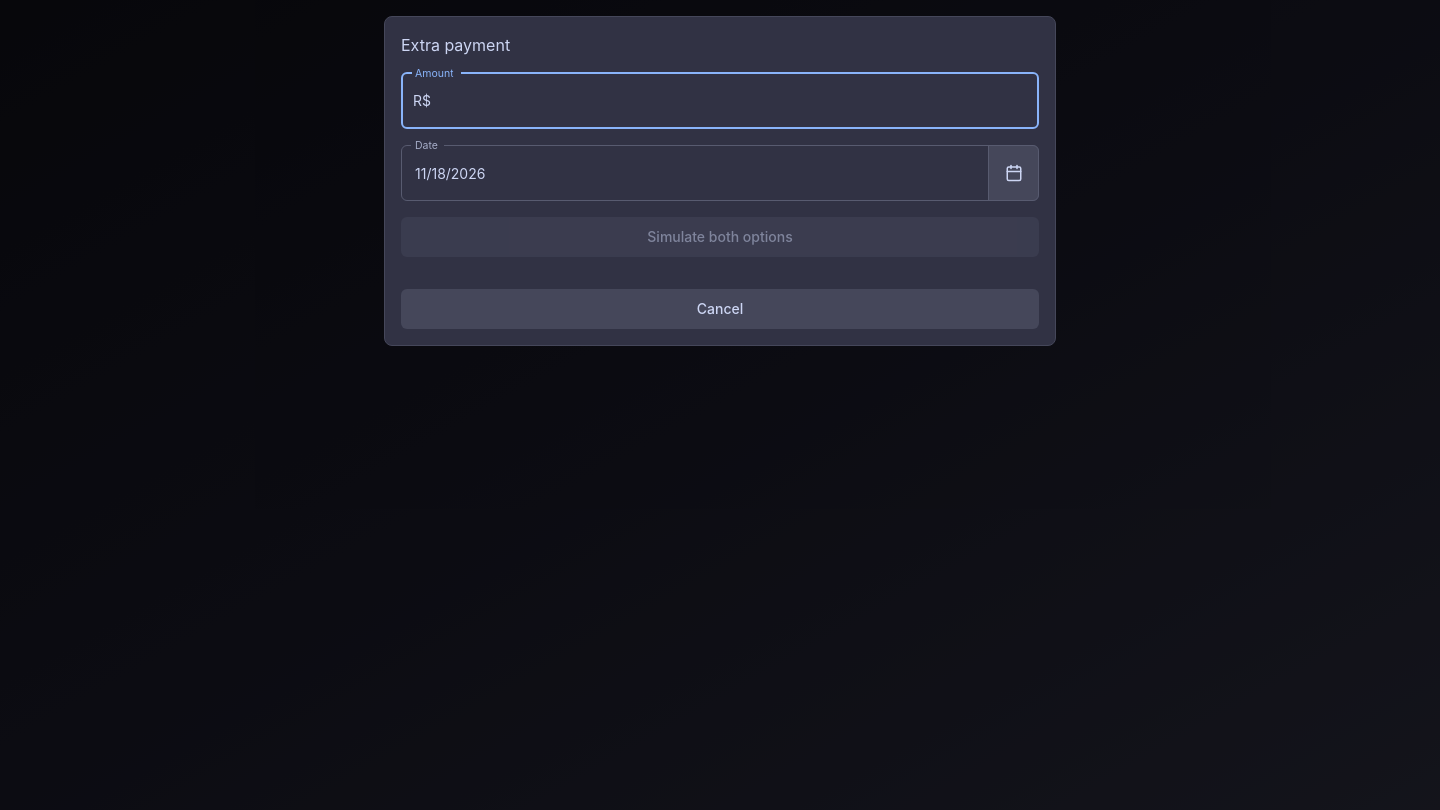
Scenario: clears stale simulations after the amount changes
In the field labelled "Amount": (742, 101) [445,73,1039,129], type "10"
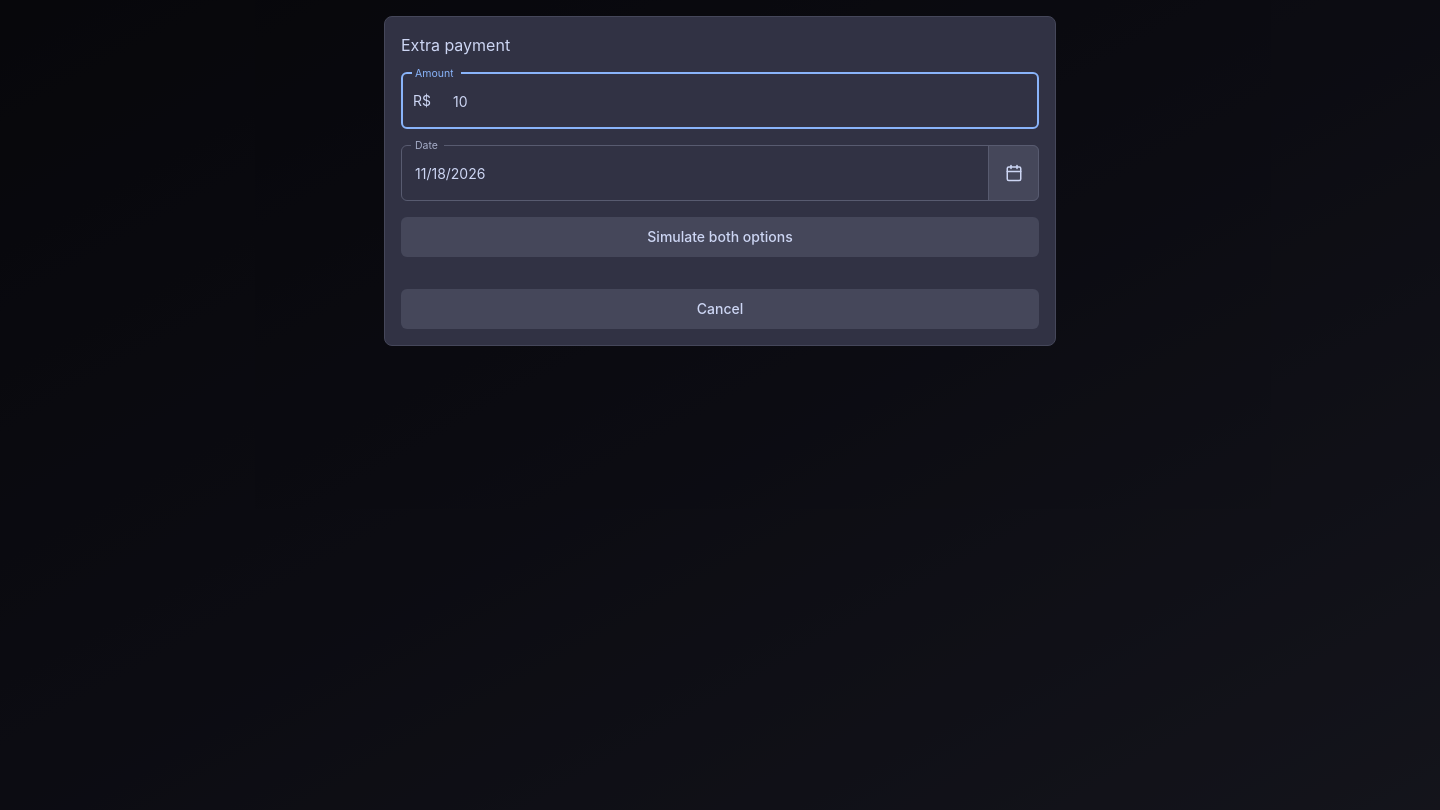
Click the button "Simulate both options": (720, 237) [401,217,1039,257]
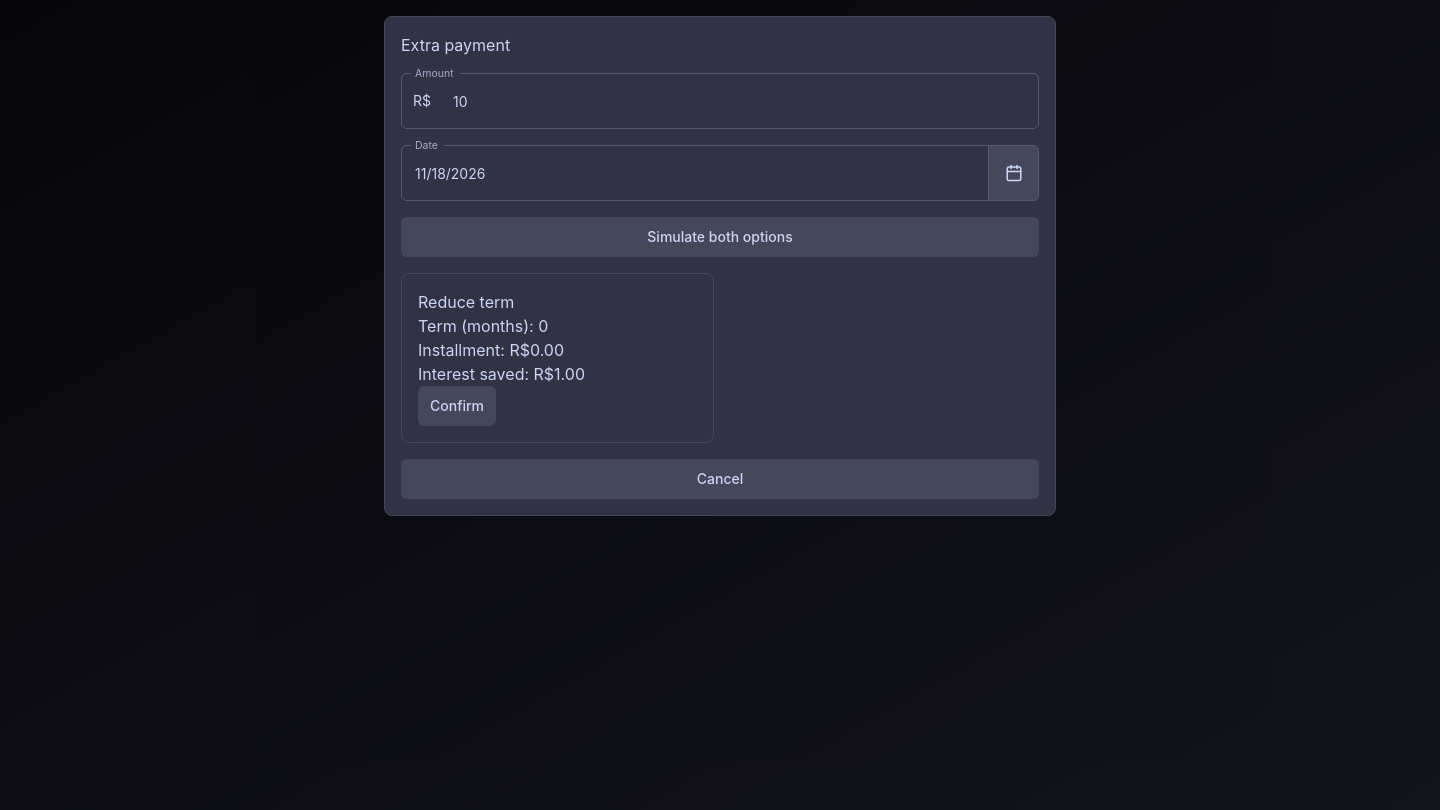
expect the heading "Reduce term" is shown: met, box [418,292,514,312]
Replace the text in the field labelled "Amount" with "20": (742, 101) [445,73,1039,129]
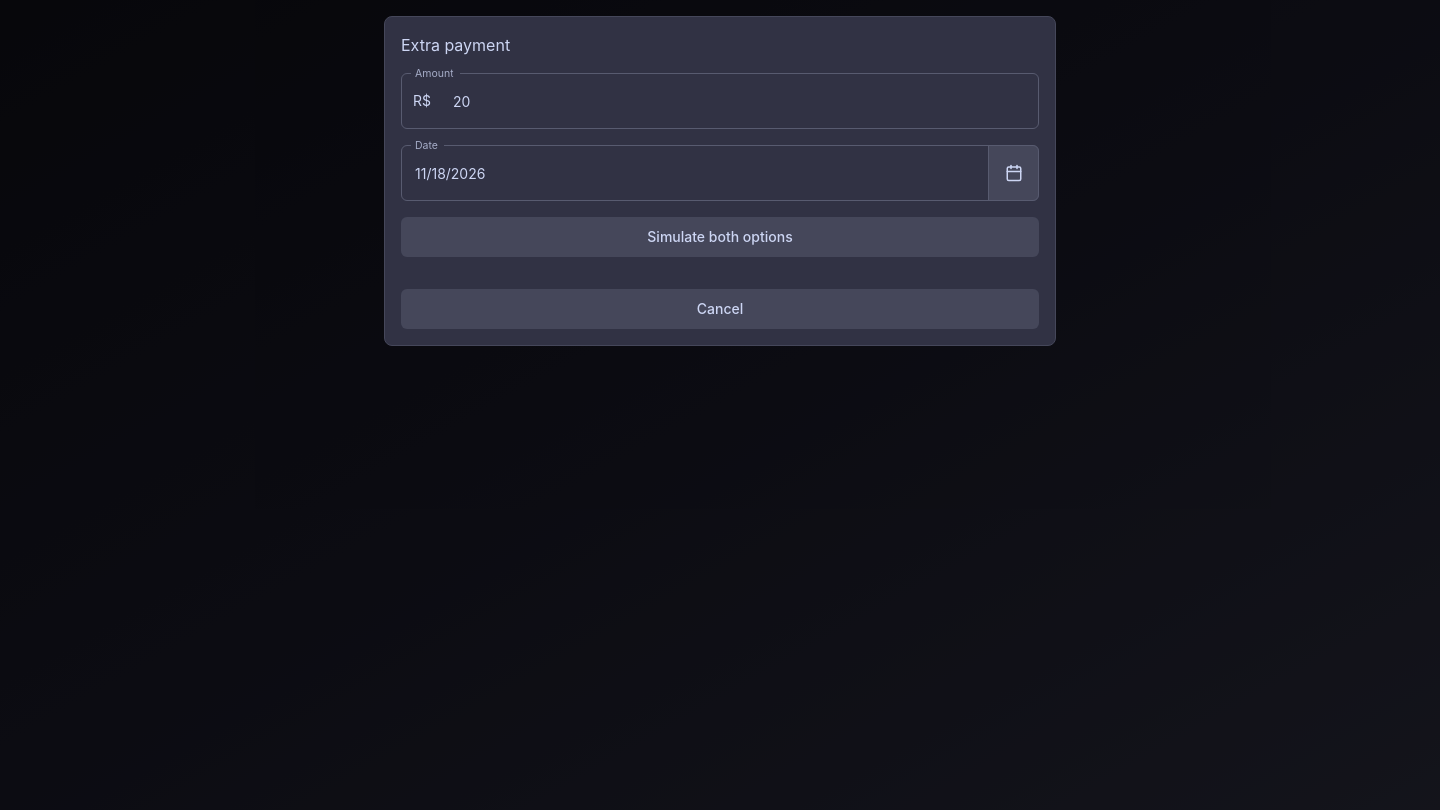
expect the button "Confirm" is gone: met
